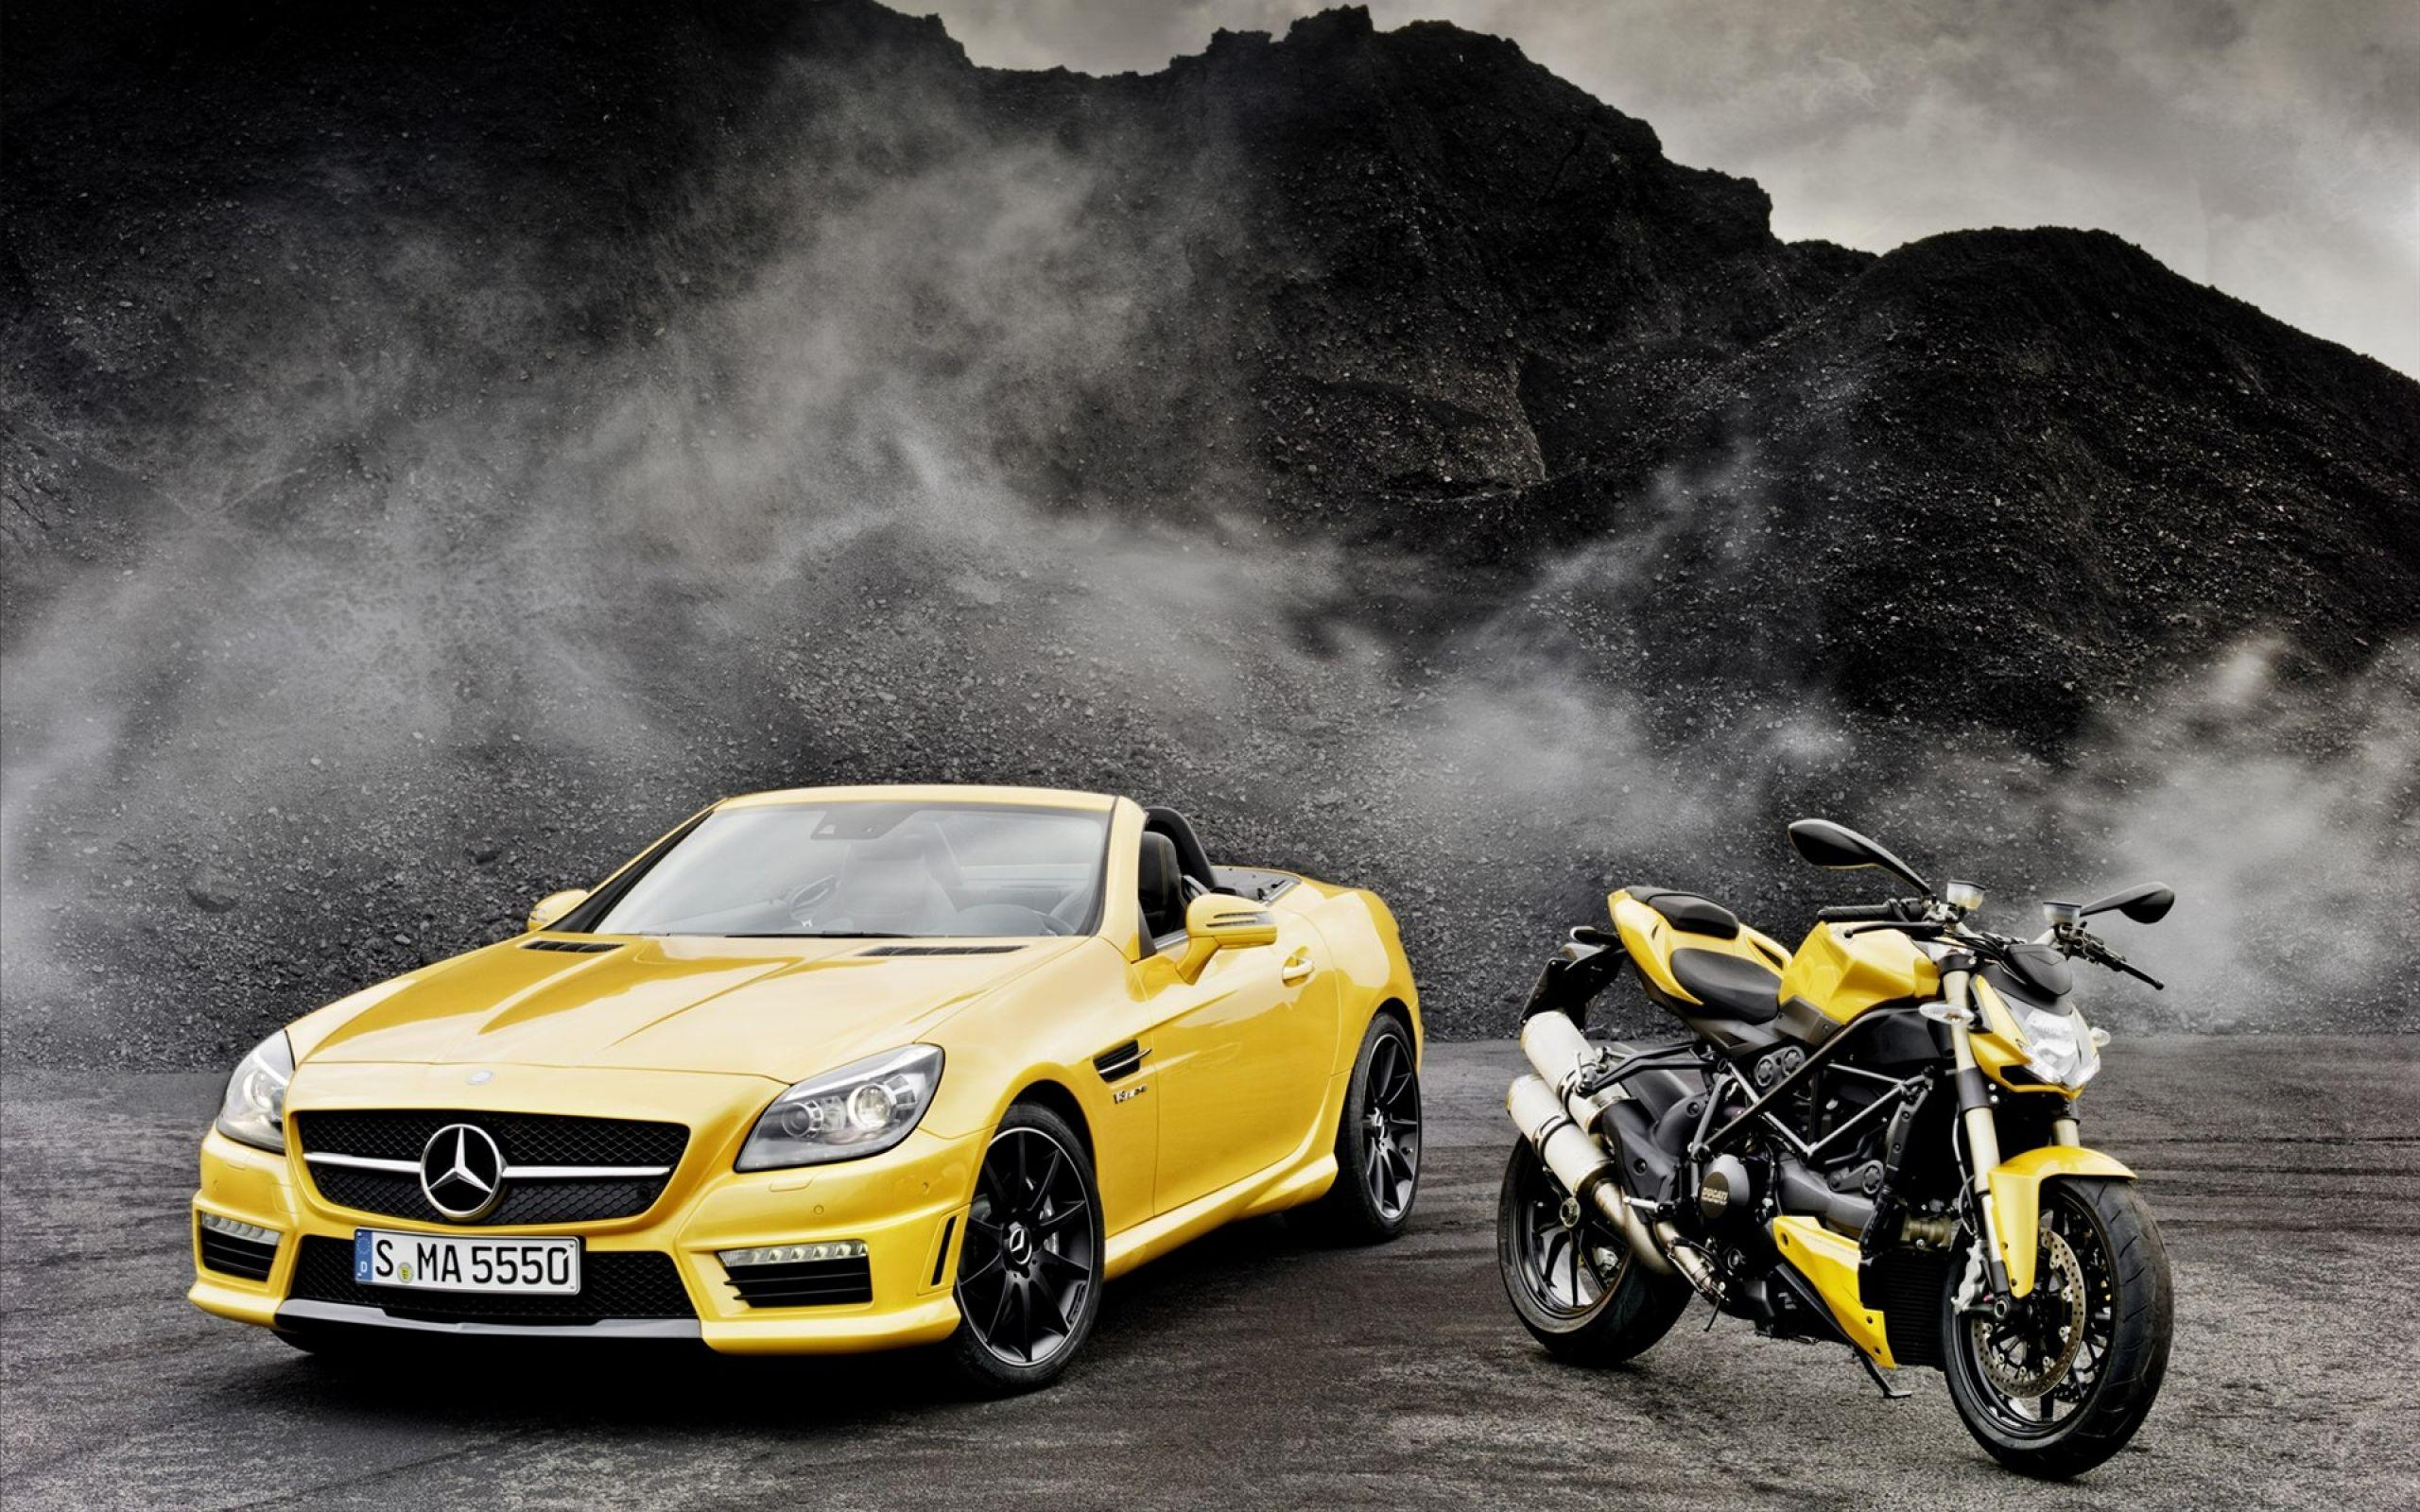BIKE: (1523, 800, 2230, 1427)
CAR: (125, 751, 1469, 1406)
